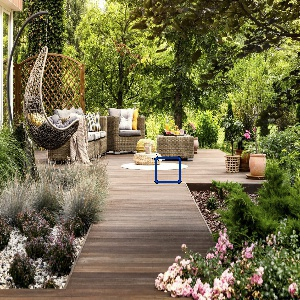square: (153, 156, 182, 185)
